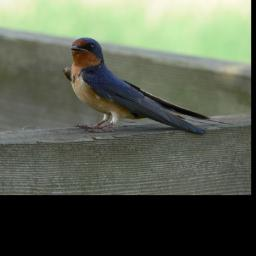Swallow: (62, 35, 235, 137)
